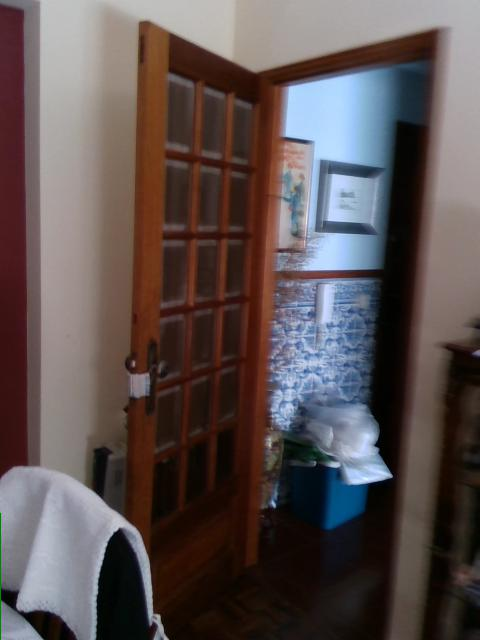door: (125, 19, 261, 630)
